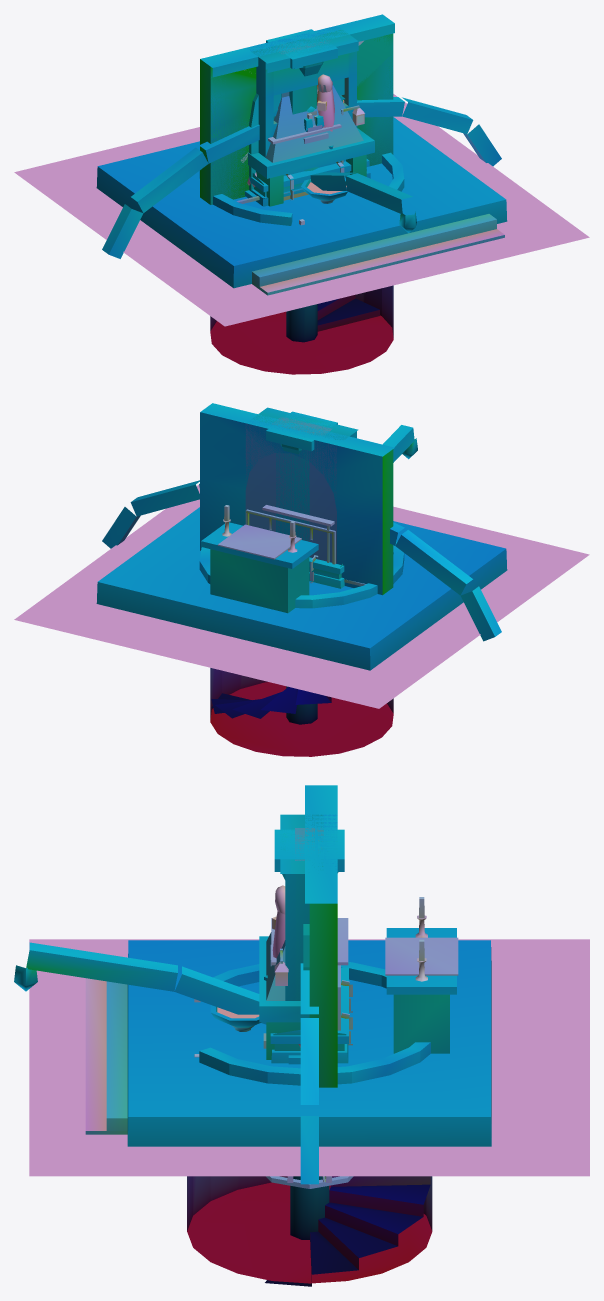
Rendered from kit_crypts.glb.
3 views of the same model, one above another, from view 1: azimuth 30°, elevation 25°; view 2: azimuth 150°, elevation 25°; view 3: azimuth 270°, elevation 25° (orthographic). The views are drawn at different scales.
Visible parts, largest first — view 1: cry_altar_step, cry_floor_mist, cry_stair_spiral, cry_door_arch, cry_vault_rib, cry_hearth_niche, cry_wall_niche_2m, cry_door_secret, cry_vault_rib_half, cry_pillar_cluster, cry_wall_corner_in, cry_wall_bone_2m (+4 smaller); view 2: cry_altar_step, cry_floor_mist, cry_door_arch, cry_stair_spiral, cry_wall_plain_2m, cry_vault_rib, cry_wall_corner_in, cry_pillar_cluster, cry_vault_rib_half, cry_merchant_barrow, cry_wall_niche_2m, cry_embalmer_table (+2 smaller); view 3: cry_altar_step, cry_floor_mist, cry_stair_spiral, cry_door_arch, cry_vault_rib_half, cry_vault_rib, cry_hearth_niche, cry_wall_niche_2m, cry_pillar_cluster, cry_wall_bone_2m, cry_merchant_barrow, cry_sarcophagus.lid (+2 smaller).
Part boxes in pixels (bbox=[...]): cry_altar_step: bbox=[96, 117, 507, 295]; cry_floor_mist: bbox=[14, 94, 589, 326]; cry_stair_spiral: bbox=[199, 113, 404, 374]; cry_door_arch: bbox=[200, 14, 394, 204]; cry_vault_rib: bbox=[102, 97, 501, 258]; cry_hearth_niche: bbox=[248, 36, 374, 206]; cry_wall_niche_2m: bbox=[254, 30, 358, 175]; cry_door_secret: bbox=[210, 24, 394, 204]; cry_vault_rib_half: bbox=[310, 172, 416, 232]; cry_pillar_cluster: bbox=[266, 29, 337, 143]; cry_wall_corner_in: bbox=[289, 42, 334, 149]; cry_wall_bone_2m: bbox=[252, 30, 353, 111]; cry_altar_step: bbox=[96, 505, 507, 670]; cry_floor_mist: bbox=[14, 484, 589, 708]; cry_door_arch: bbox=[200, 403, 394, 595]; cry_stair_spiral: bbox=[199, 540, 404, 756]; cry_wall_plain_2m: bbox=[245, 415, 346, 563]; cry_vault_rib: bbox=[102, 480, 501, 641]; cry_wall_corner_in: bbox=[276, 417, 329, 541]; cry_pillar_cluster: bbox=[266, 411, 337, 454]; cry_vault_rib_half: bbox=[383, 425, 417, 462]; cry_merchant_barrow: bbox=[262, 505, 366, 586]; cry_wall_niche_2m: bbox=[253, 407, 358, 439]; cry_embalmer_table: bbox=[245, 509, 335, 564]; cry_altar_step: bbox=[85, 897, 491, 1146]; cry_floor_mist: bbox=[29, 939, 589, 1176]; cry_stair_spiral: bbox=[187, 962, 432, 1286]; cry_door_arch: bbox=[303, 785, 337, 1087]; cry_vault_rib_half: bbox=[14, 942, 266, 1024]; cry_vault_rib: bbox=[300, 963, 318, 1184]; cry_hearth_niche: bbox=[259, 828, 323, 1059]; cry_wall_niche_2m: bbox=[280, 814, 320, 1000]; cry_pillar_cluster: bbox=[270, 829, 344, 966]; cry_wall_bone_2m: bbox=[290, 814, 323, 1000]; cry_merchant_barrow: bbox=[271, 918, 348, 985]; cry_sarcophagus.lid: bbox=[270, 967, 348, 1043].
Bounding box in the file's own units: 8.62 × 6.16 × 8.22.
